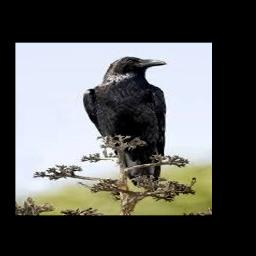Crow: (84, 57, 167, 193)
